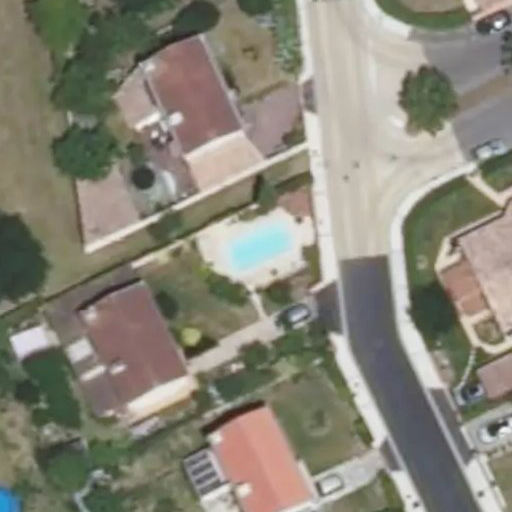pool: (218, 237, 290, 245)
